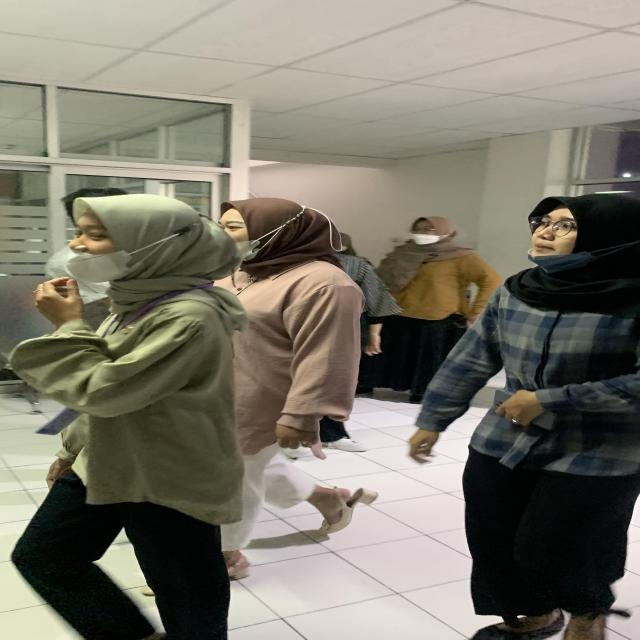hairnet: (32, 184, 202, 290), (516, 182, 634, 277), (216, 192, 310, 268)
